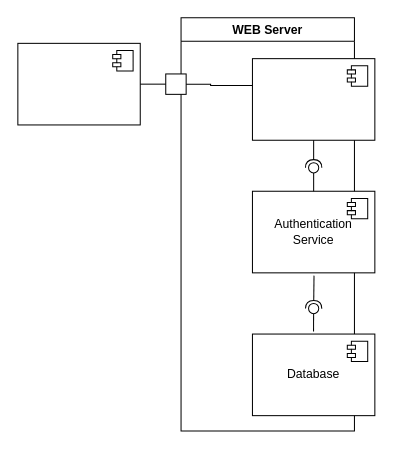
The diagram is 393 pixels wide and 449 high, and some of its shapes have lost their labels. The centre of each missing label's shape, as x and y in pixels:
"Authorization Service" goes at (313,99).
"Client" goes at (78,83).
